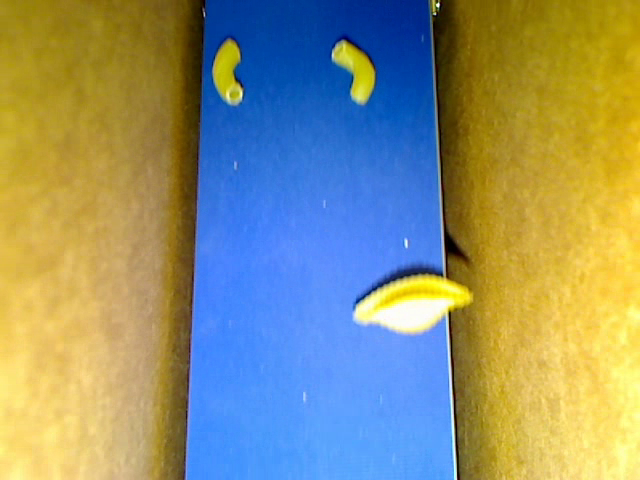elbow: (331, 40, 374, 104), (212, 36, 243, 105)
shell: (352, 274, 472, 333)
